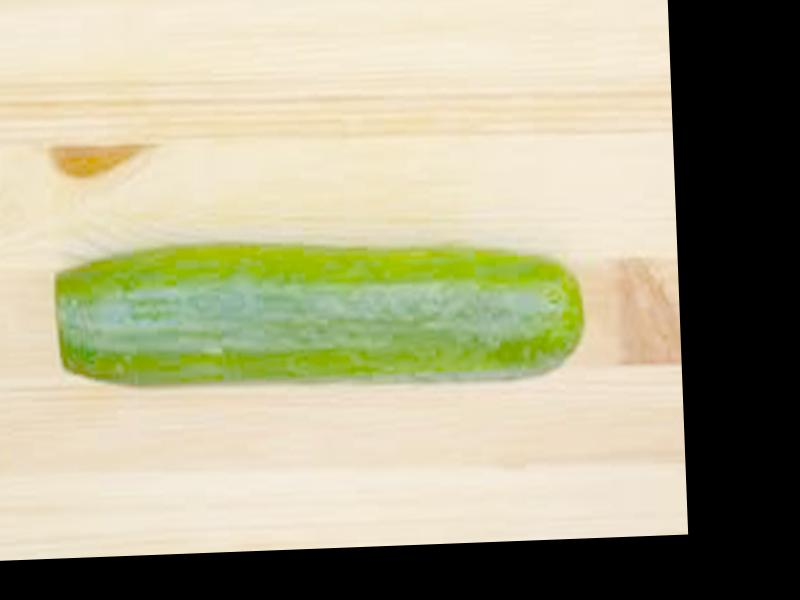Cucumber: (56, 234, 586, 397)
